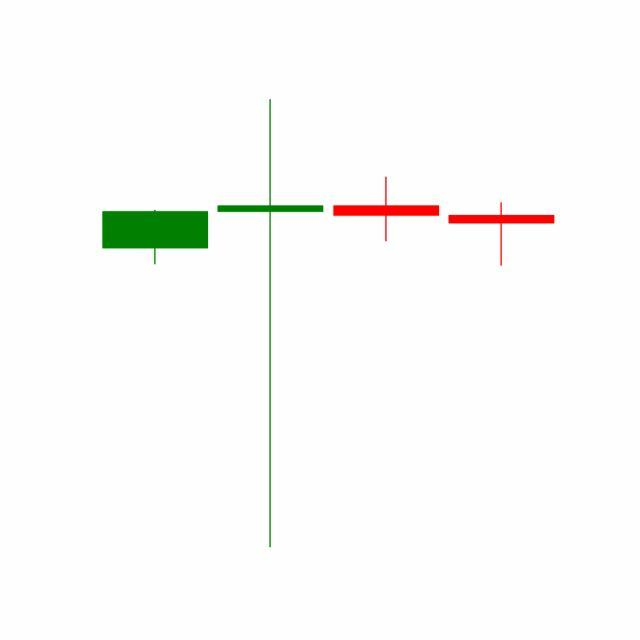Dragonfly Doji: (444, 202, 560, 268)
